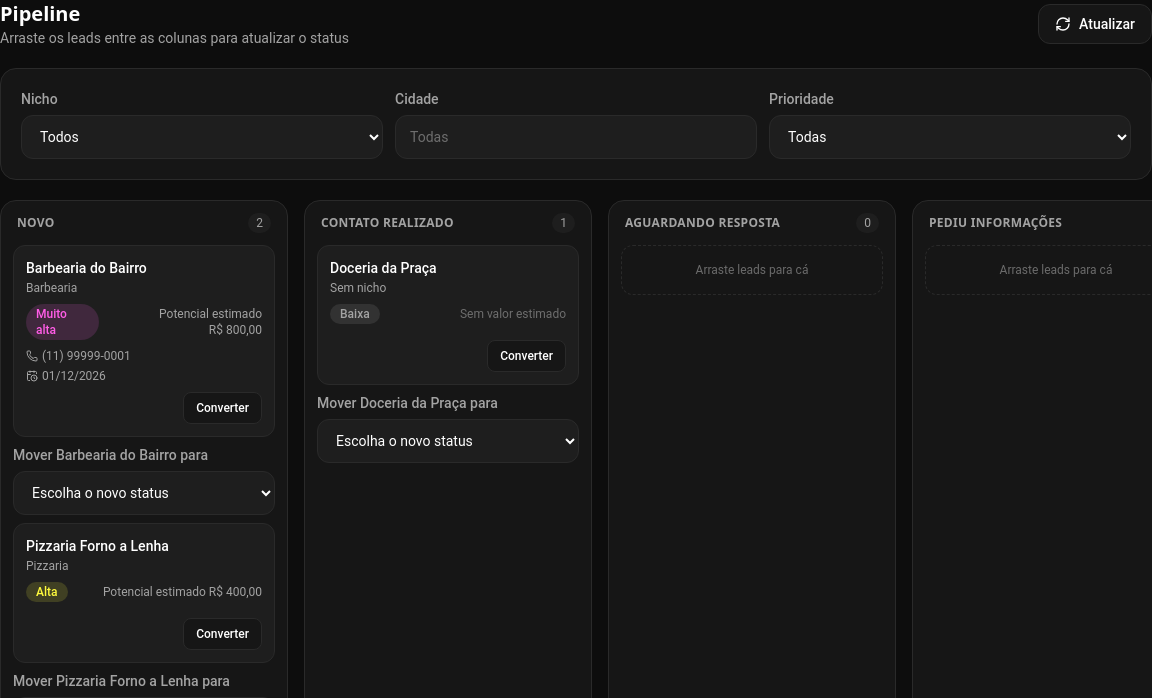
Scenario: PipelinePage — conversão › não inicia arraste nem altera status ao clicar ou pressionar Converter
Expected: the element "Barbearia do Bairro" is shown, [13, 245, 275, 437]
Step 1. Click the button "Converter" below "01/12/2026" → (223, 408), box [183, 392, 262, 424]
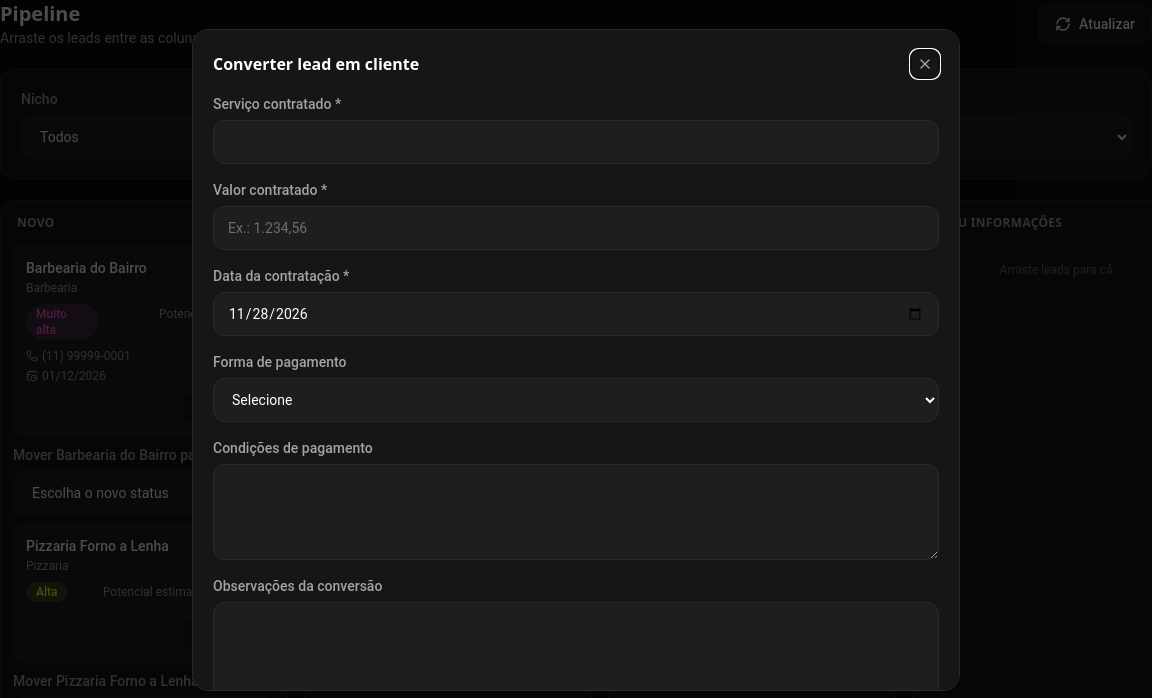
Expected: the element "Barbearia do Bairro" is shown, [13, 245, 275, 437]
Result: the dialog "Converter lead em cliente" is shown
